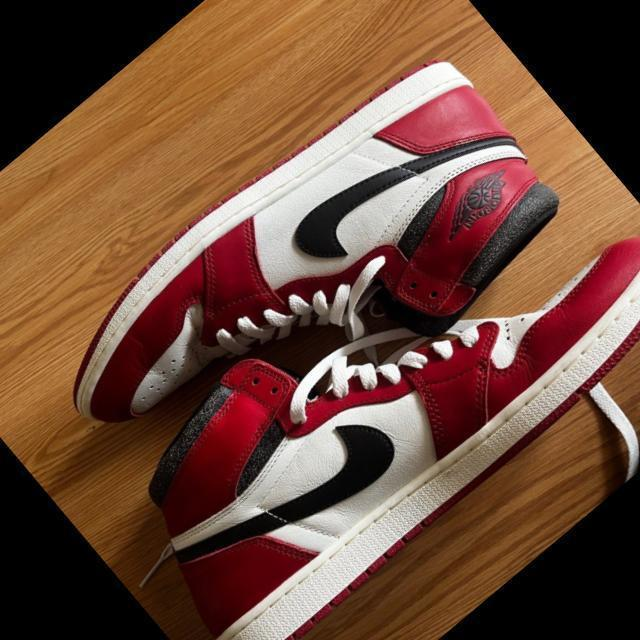nike original jordan 1: (7, 11, 600, 564), (78, 99, 640, 640)
